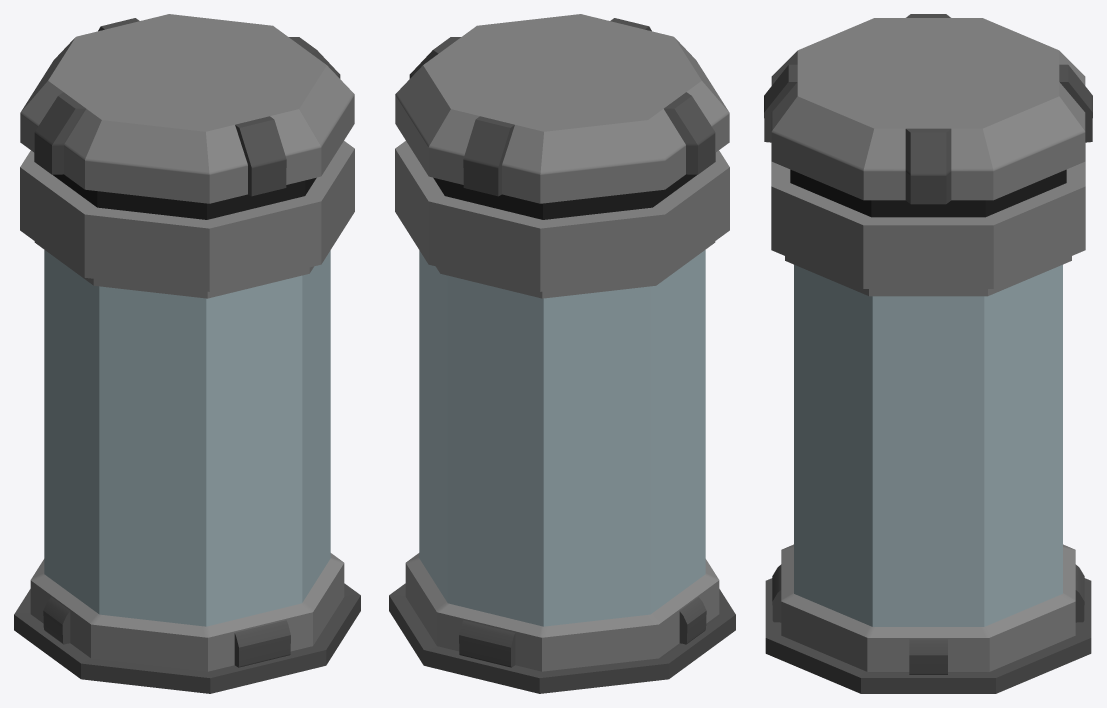
The model's file is fullStage_cylinder.fbx.
The picture shows the model from 3 angles, left to right: view 1: azimuth 30°, elevation 25°; view 2: azimuth 150°, elevation 25°; view 3: azimuth 270°, elevation 25°; orthographic projection.
Parts seen in each view (by area): view 1: fullStage_geo; view 2: fullStage_geo; view 3: fullStage_geo.
Part boxes in pixels (bbox=[...]): fullStage_geo: bbox=[14, 14, 360, 693]; fullStage_geo: bbox=[389, 14, 735, 693]; fullStage_geo: bbox=[764, 14, 1092, 693].
Size of the model in its own units: 2.3 by 4.18 by 2.26.
